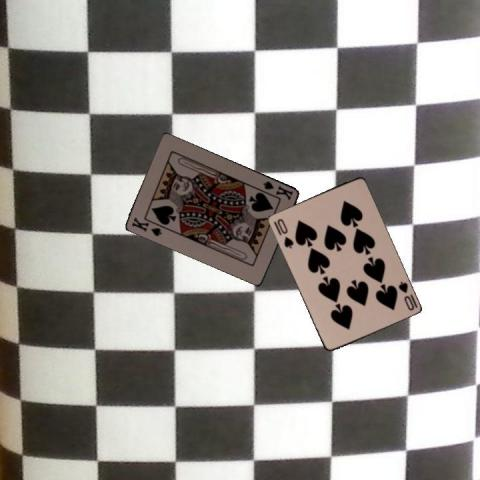10s: (274, 216, 295, 250), (396, 278, 416, 312)
Ks: (129, 214, 164, 237), (260, 178, 294, 201)
